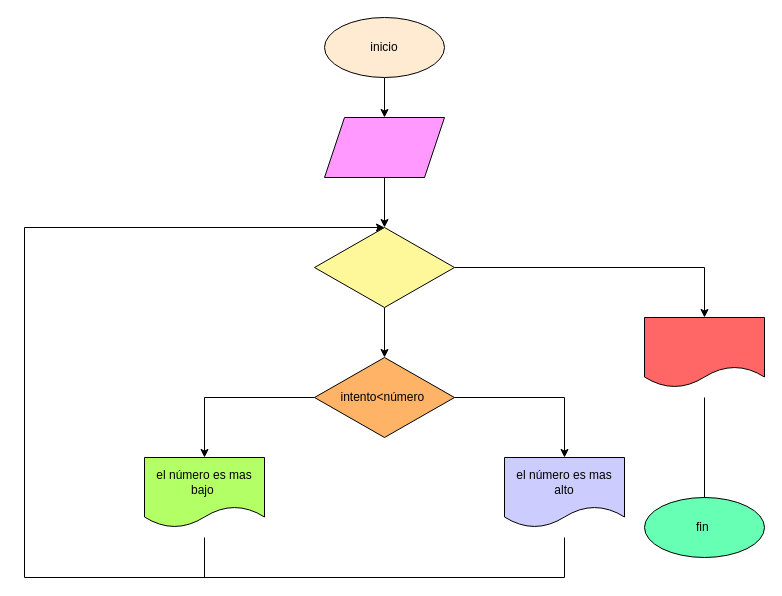
The diagram is 782 pixels wide and 596 high, and some of its shapes have lost their labels. Here are the shapes that lost their labels. From the top down, the box of each, then its label:
(324, 116, 444, 178): numero intento
(314, 226, 454, 308): intento !=número
(644, 316, 764, 388): adivinaste el número
